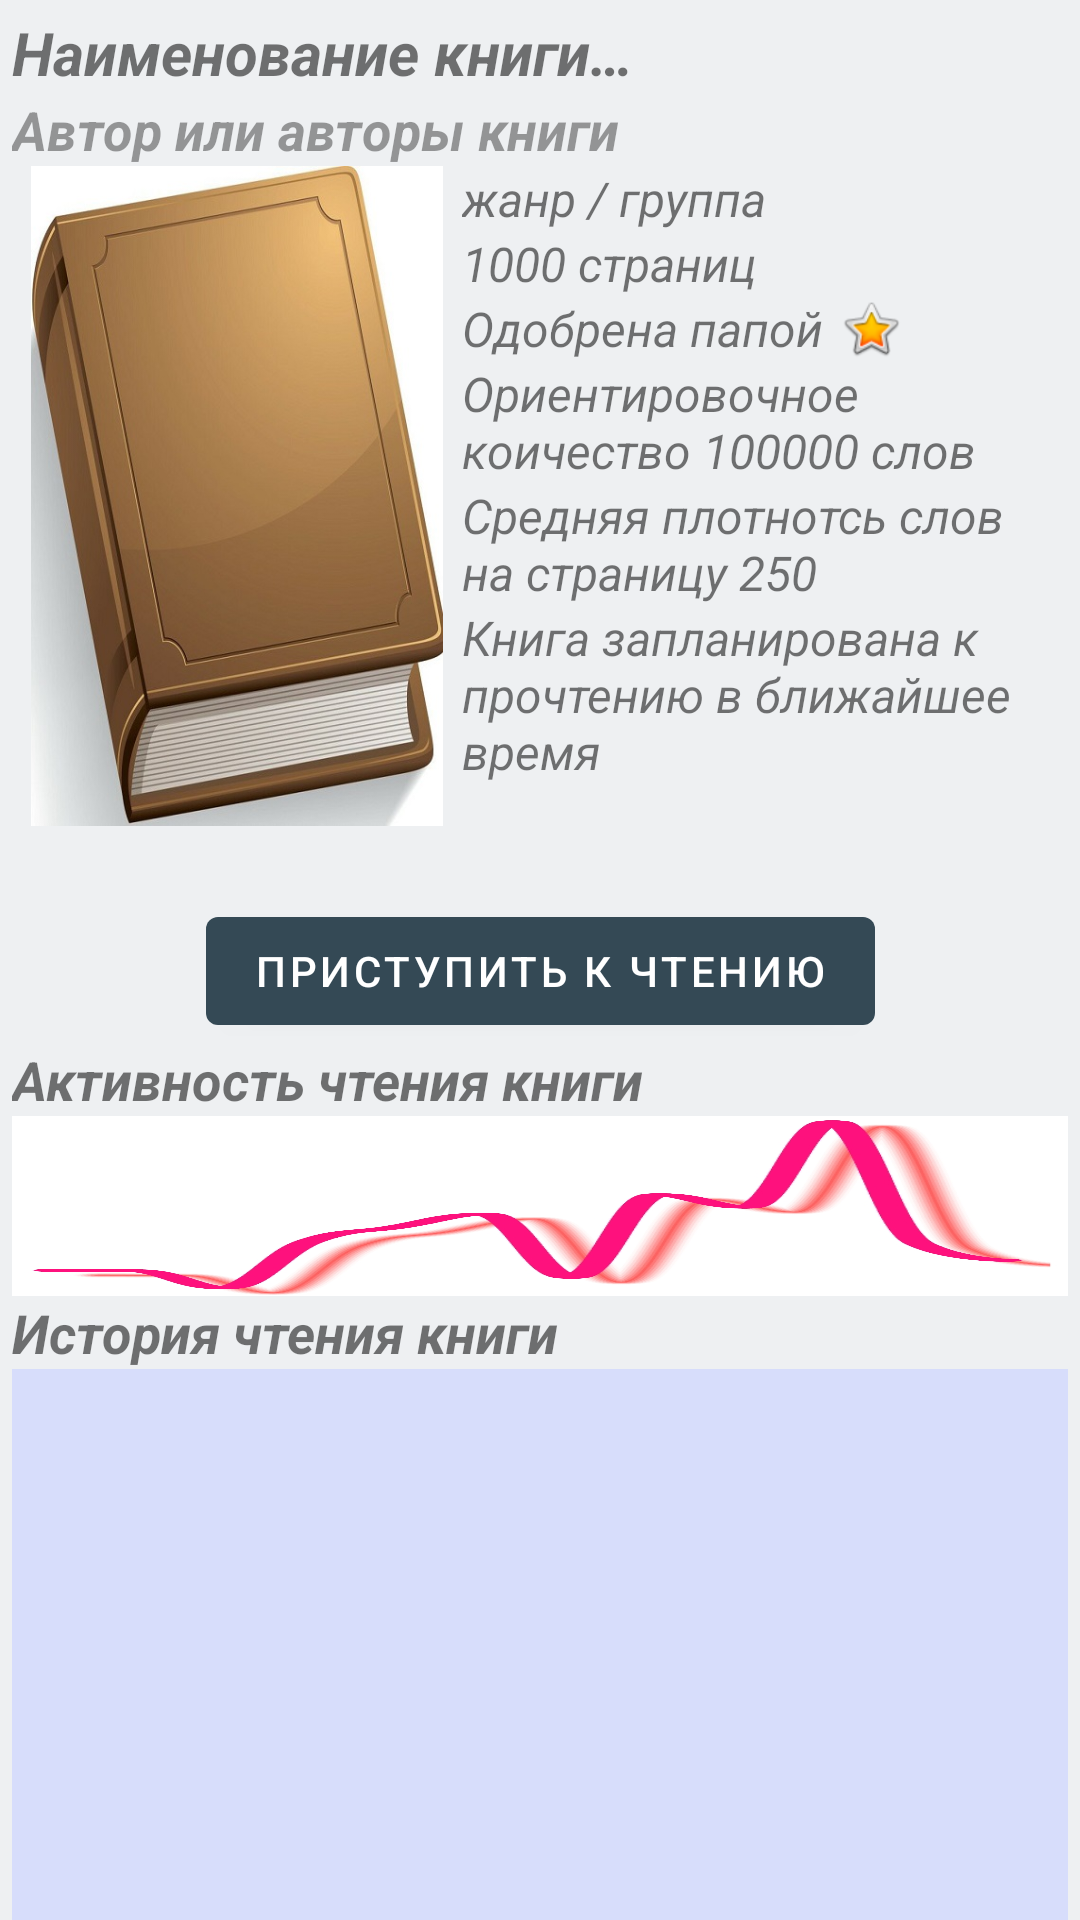

Point at icon controls on the screen. Image size 1080px×1920px, points as (x,y).
star on: (871,329)
